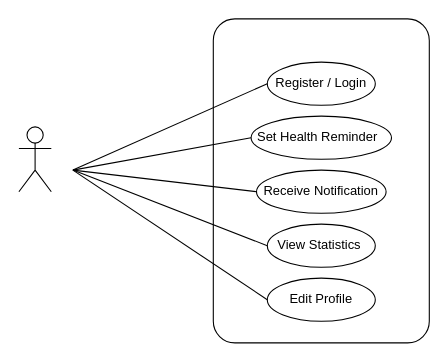
Image size: 448x362. Some labels were removed from this diagram. Each missing label, with the box of its shape:
Digital Health Reminder System: (212, 18, 429, 343)
user: (18, 126, 51, 192)
